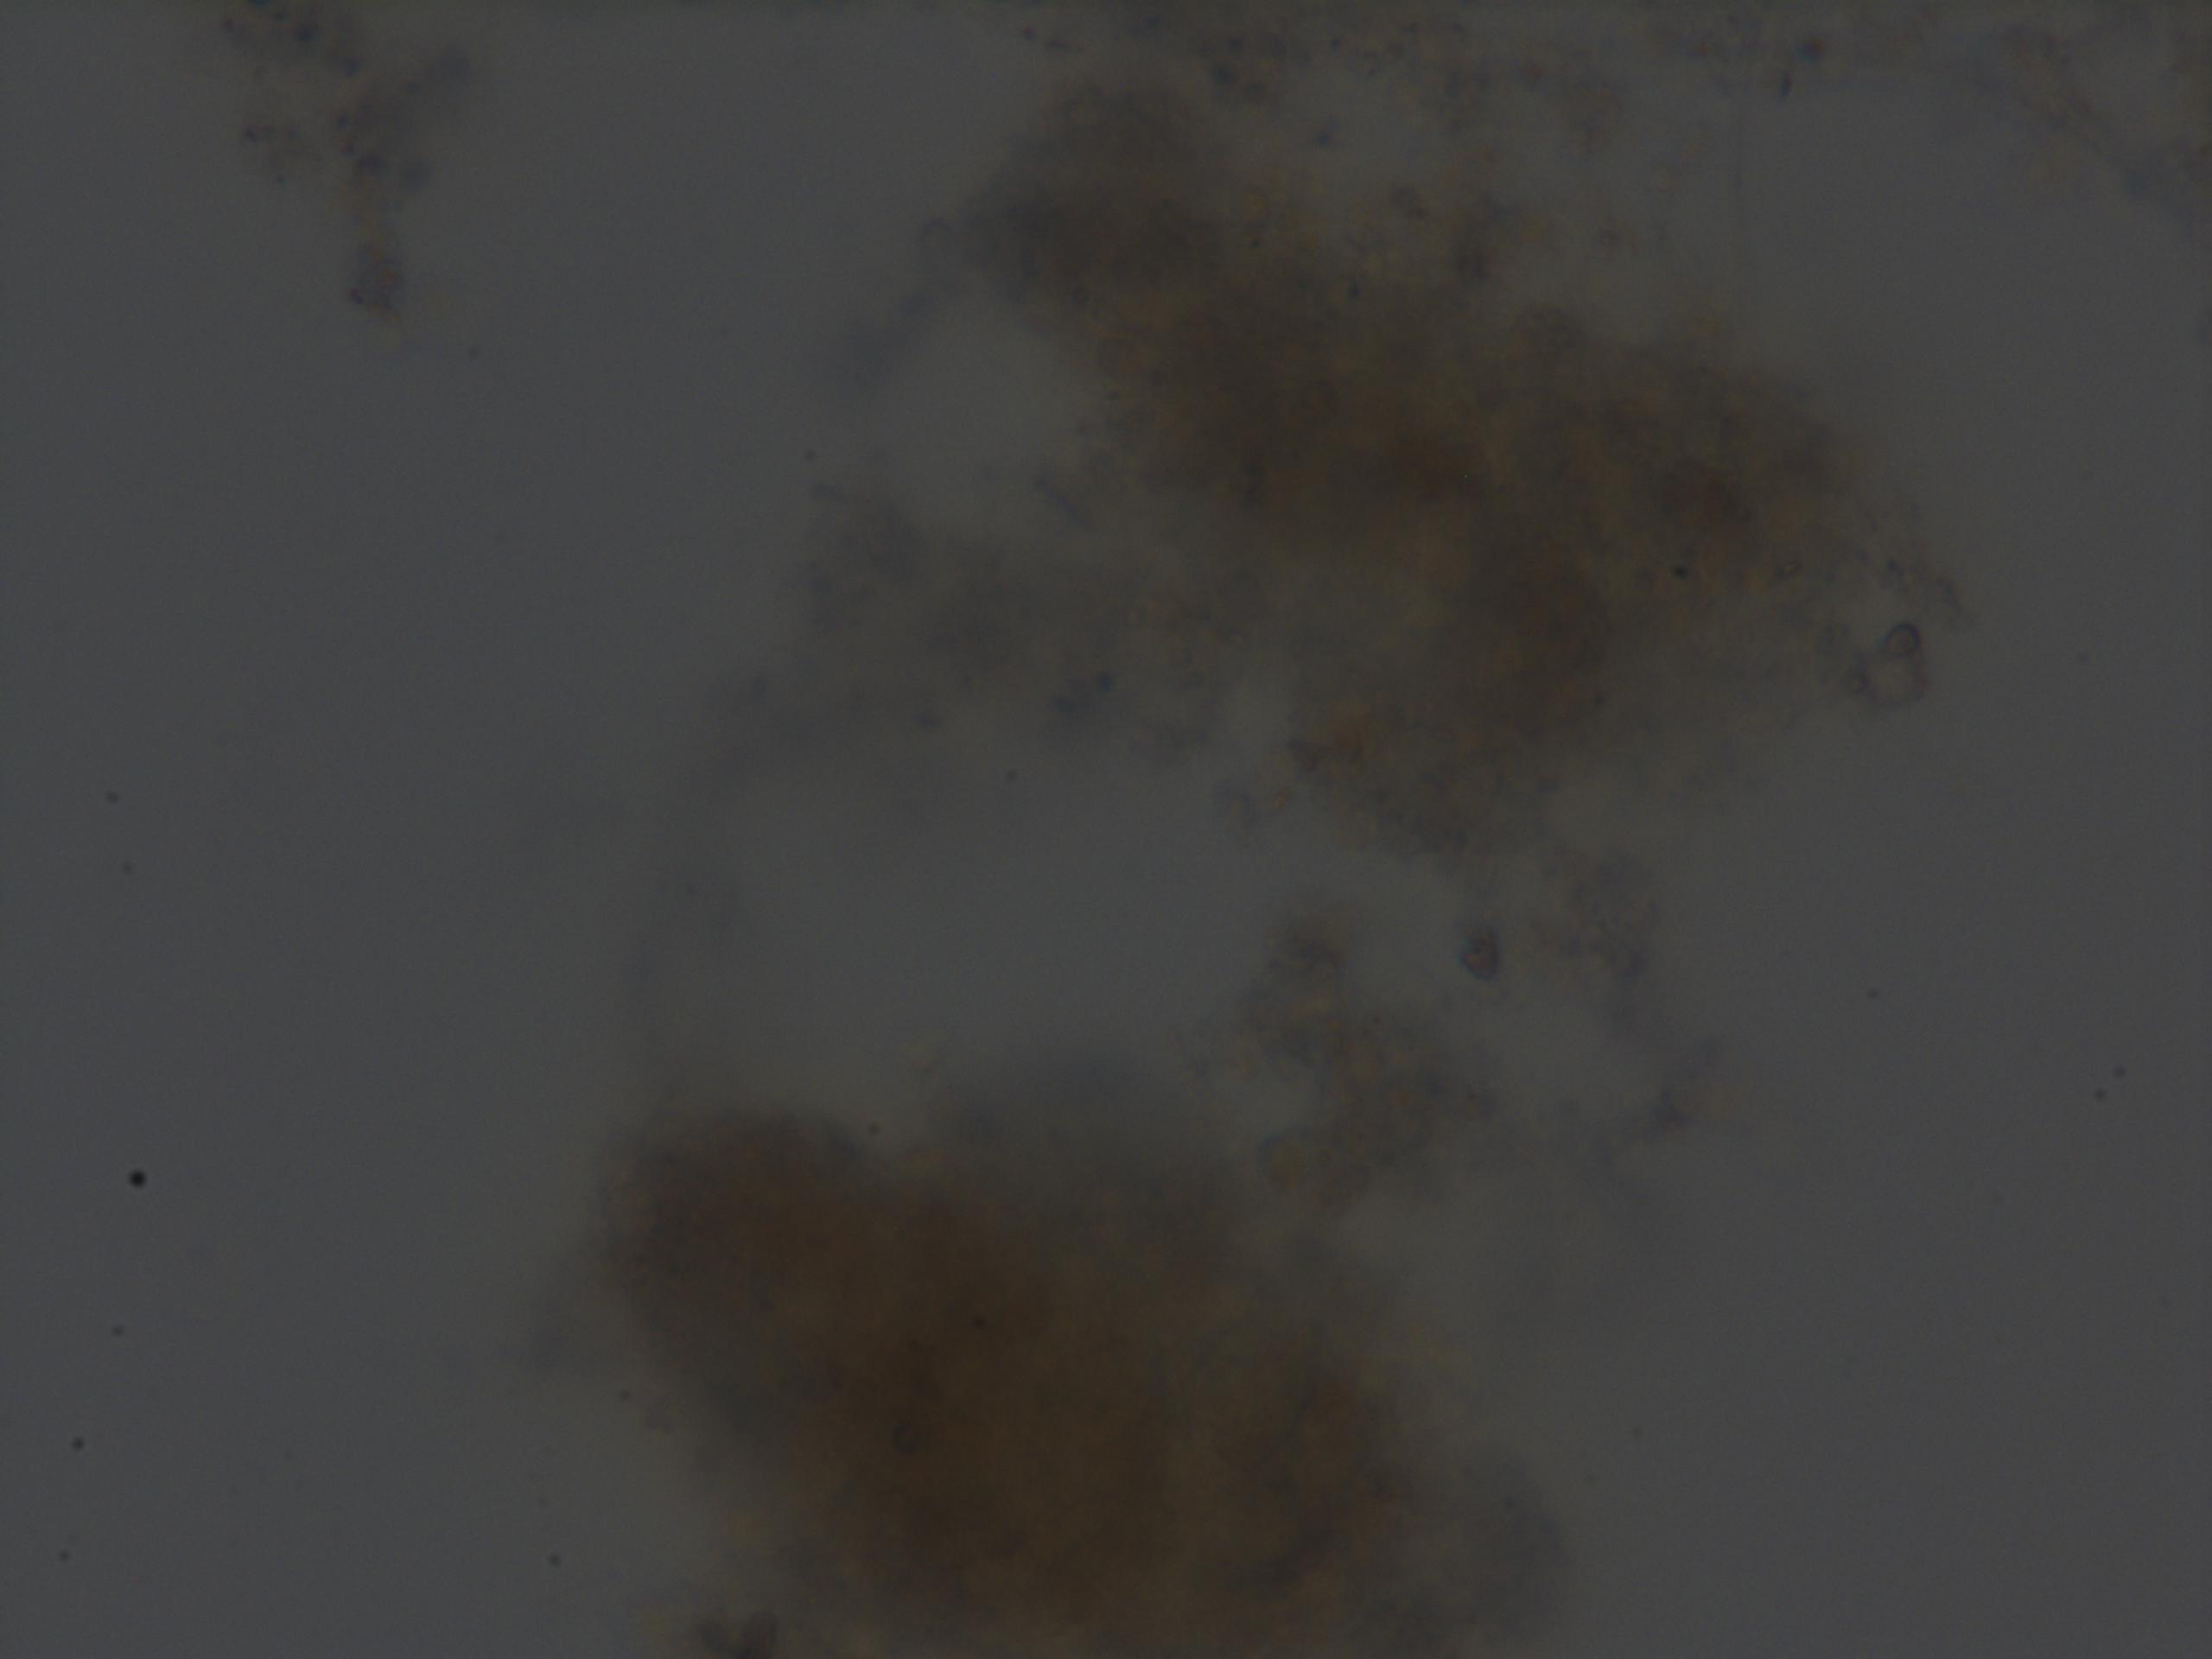open_floc: (789, 42, 1965, 931)
